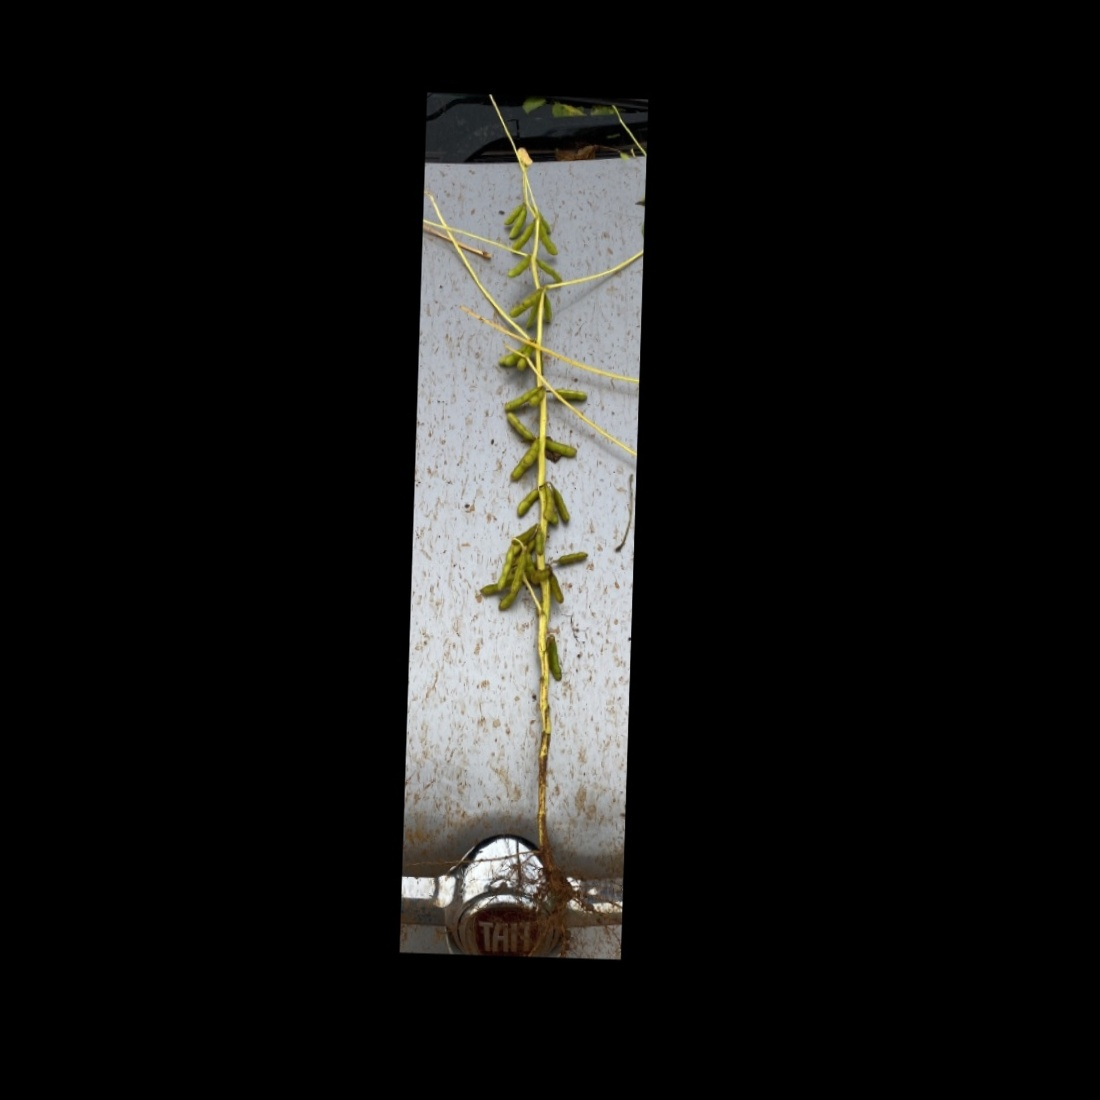pod: (535, 222, 565, 260), (544, 634, 566, 682), (503, 413, 539, 442), (512, 485, 539, 523), (545, 435, 583, 459), (505, 250, 532, 283), (533, 258, 565, 285), (553, 549, 591, 568), (547, 386, 590, 402), (550, 573, 566, 605), (541, 293, 553, 328)
soy: (457, 187, 621, 926)
